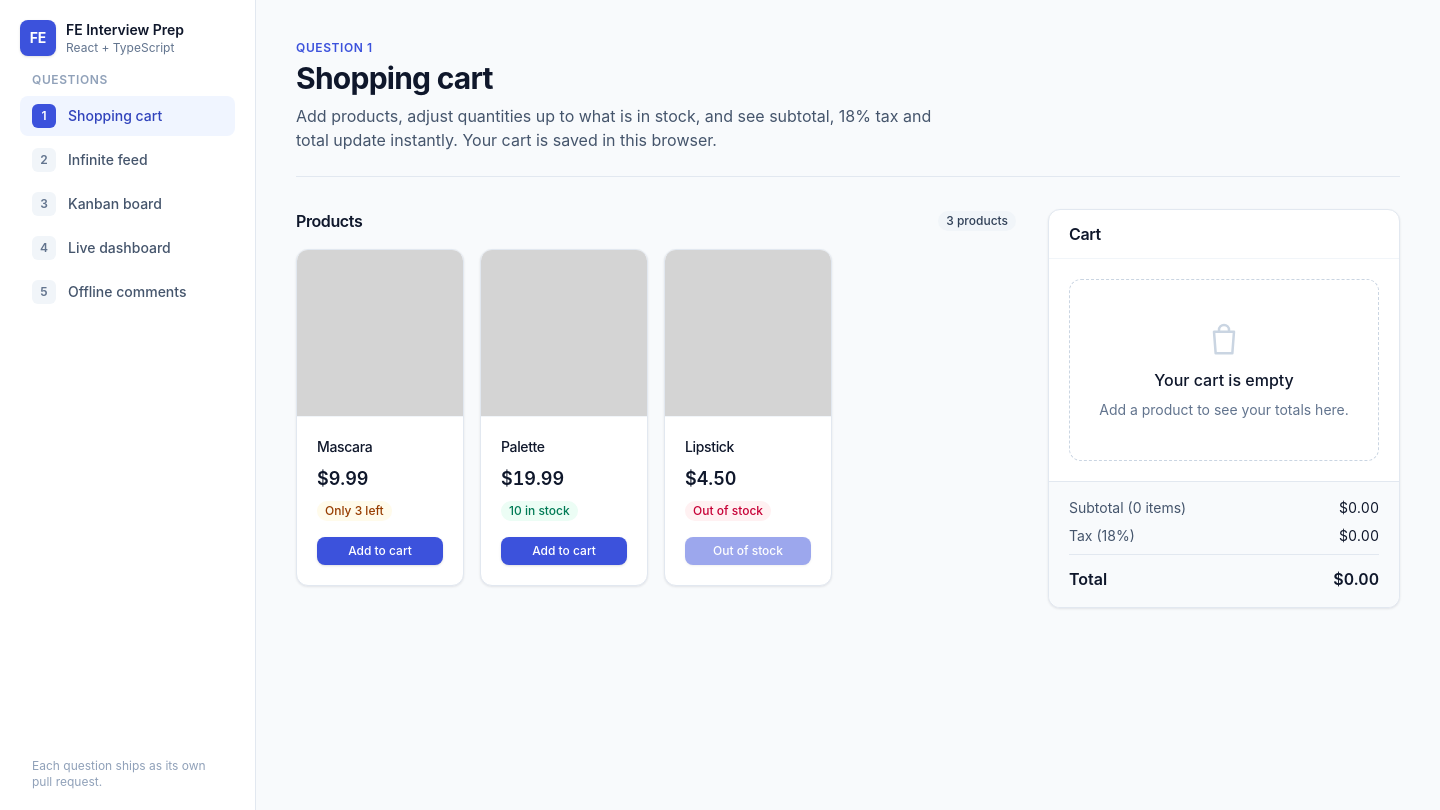
Test case: Shopping cart page › updates subtotal, tax and total immediately when quantities change
Expected: the heading "Products" is shown, [296,209,362,233]
Click the button with aria-label "Add to cart: Mascara": coordinates (380, 551) [317,537,443,565]
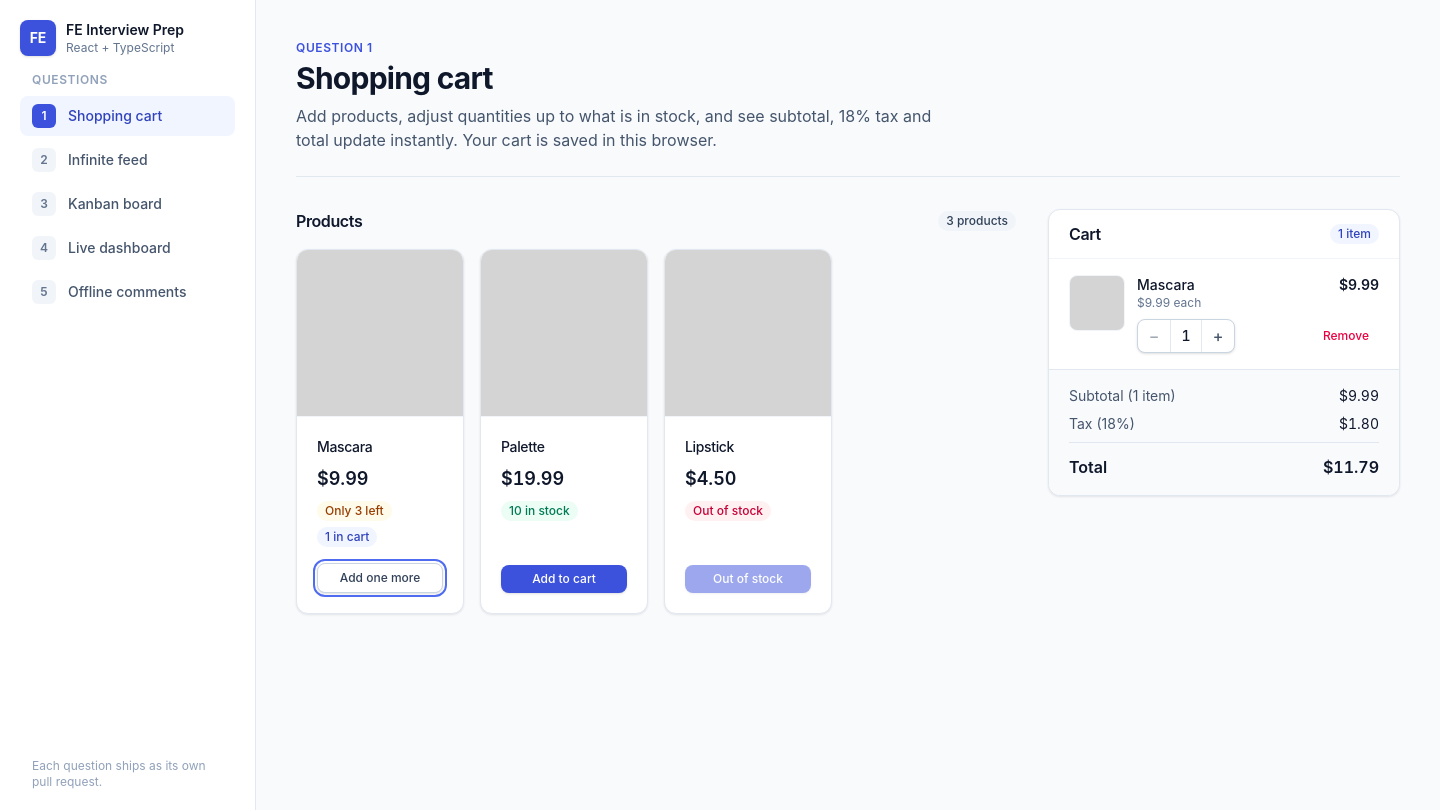
Click the button named "Increase quantity of Mascara": coordinates (1218, 336) [1202,320,1234,352]
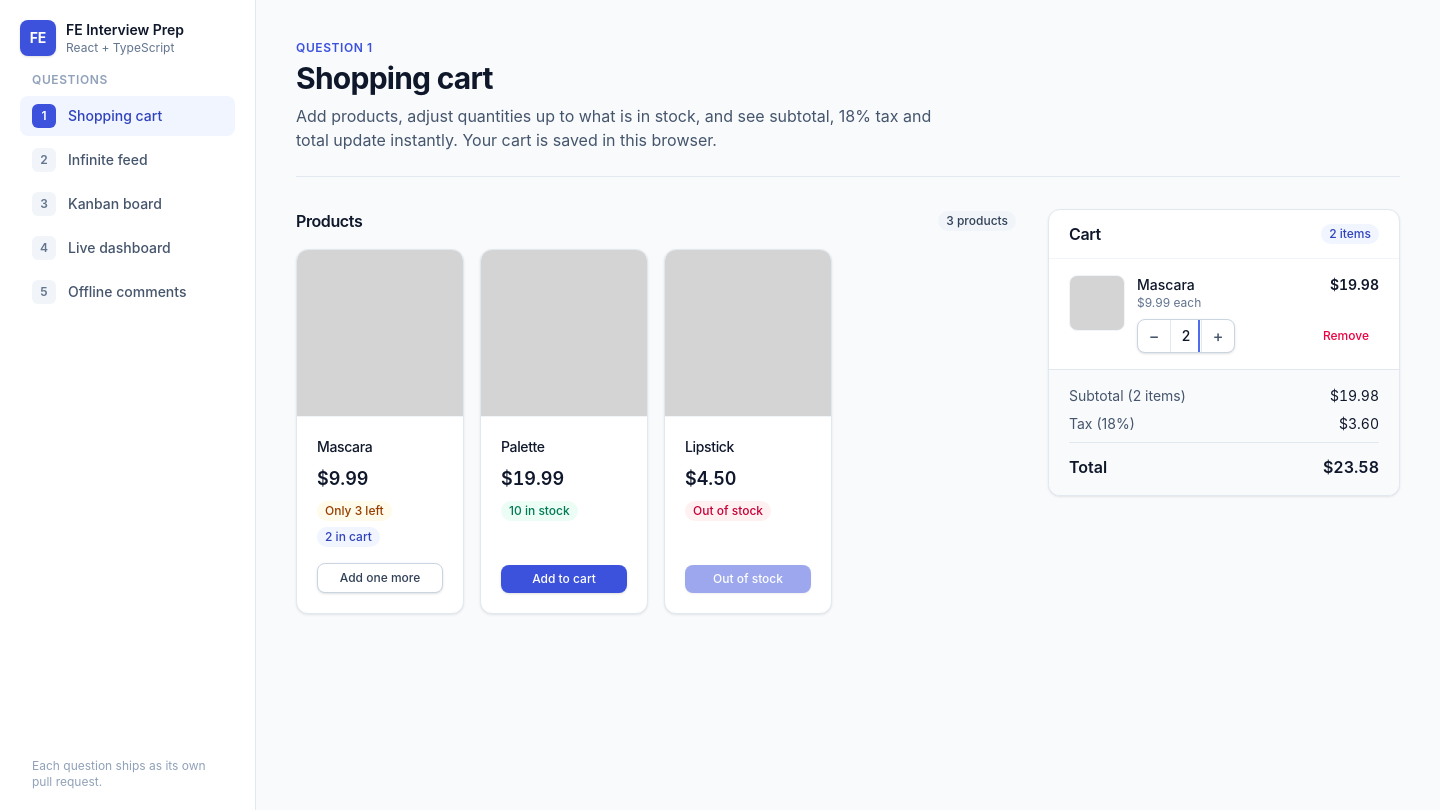
Expected: the text named "Quantity of Mascara" reads "2", [1182,327,1191,344]
Click the button with aria-label "Add to cart: Palette": coordinates (564, 579) [501,565,627,593]
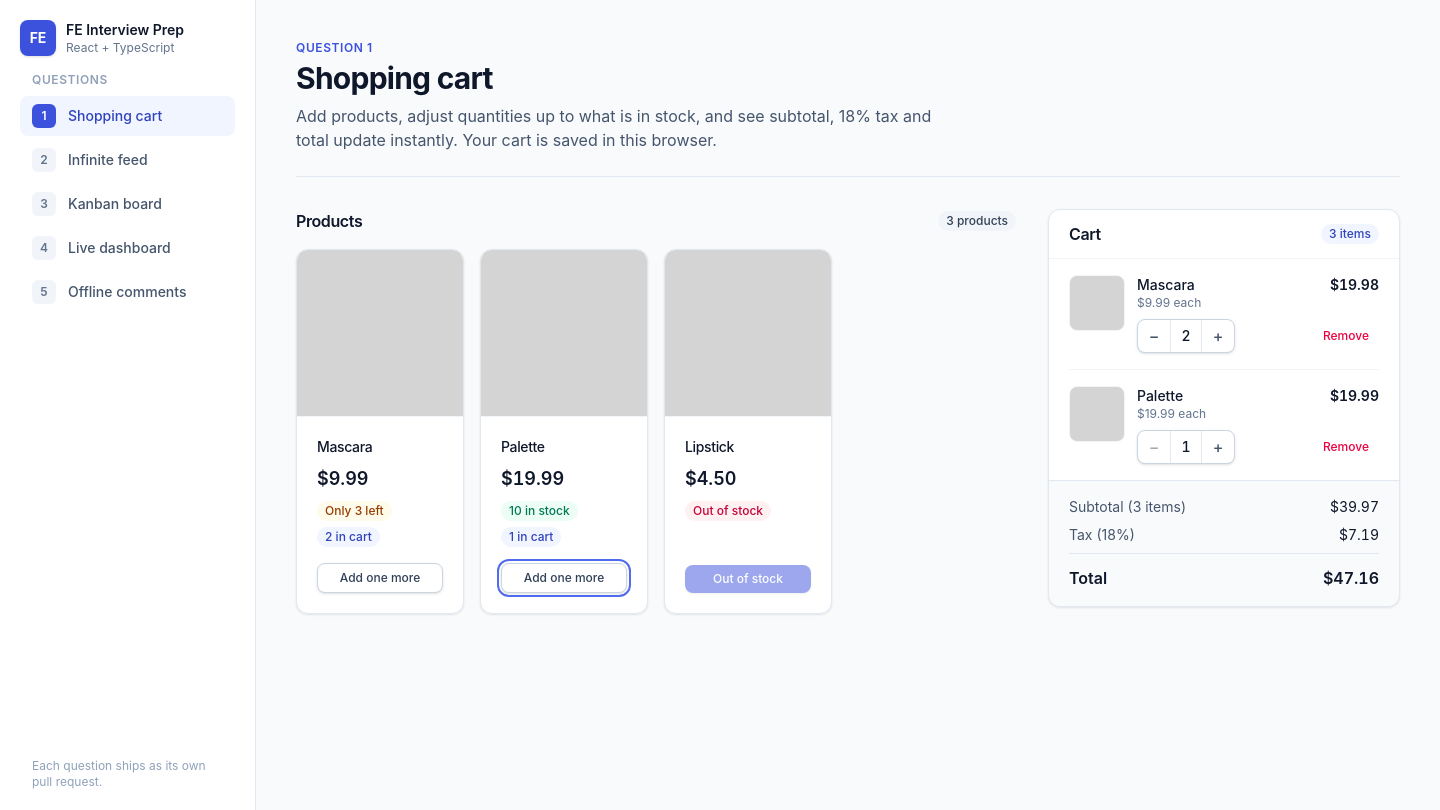
Click the button named "Decrease quantity of Mascara": coordinates (1154, 336) [1138,320,1170,352]
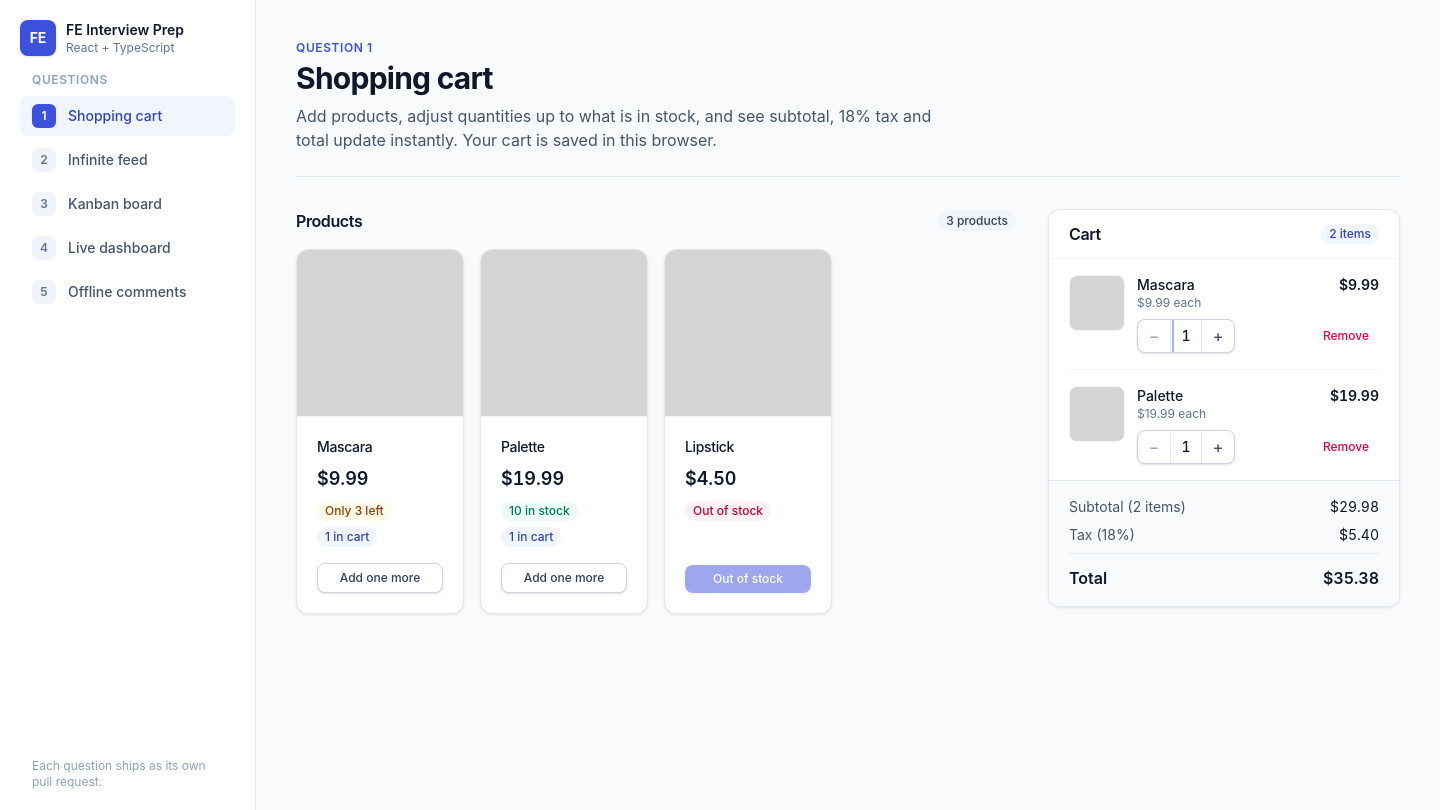
Click the button with aria-label "Remove Palette": coordinates (1346, 447) [1313,433,1379,461]
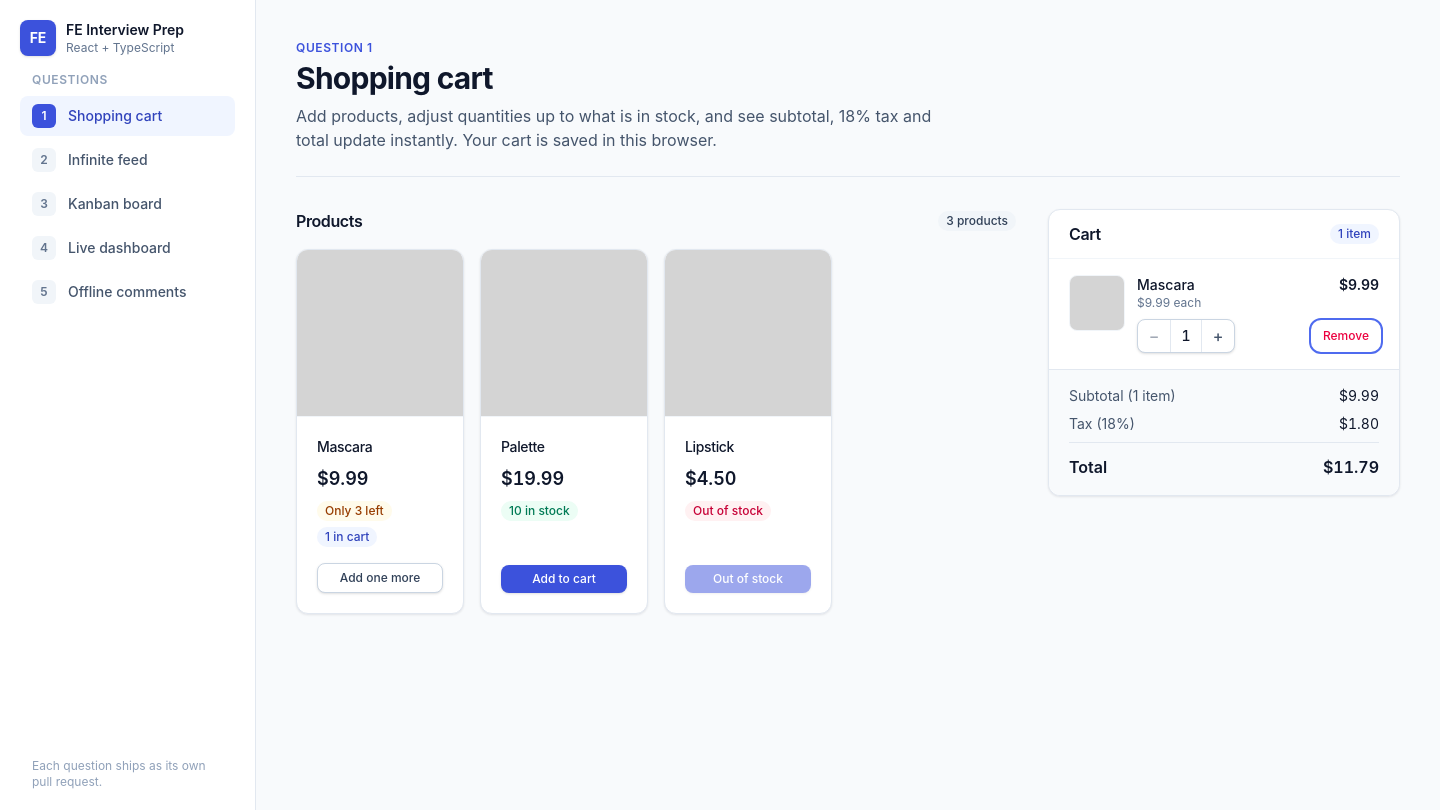
Click the button with aria-label "Remove Mascara": coordinates (1346, 336) [1313,322,1379,350]
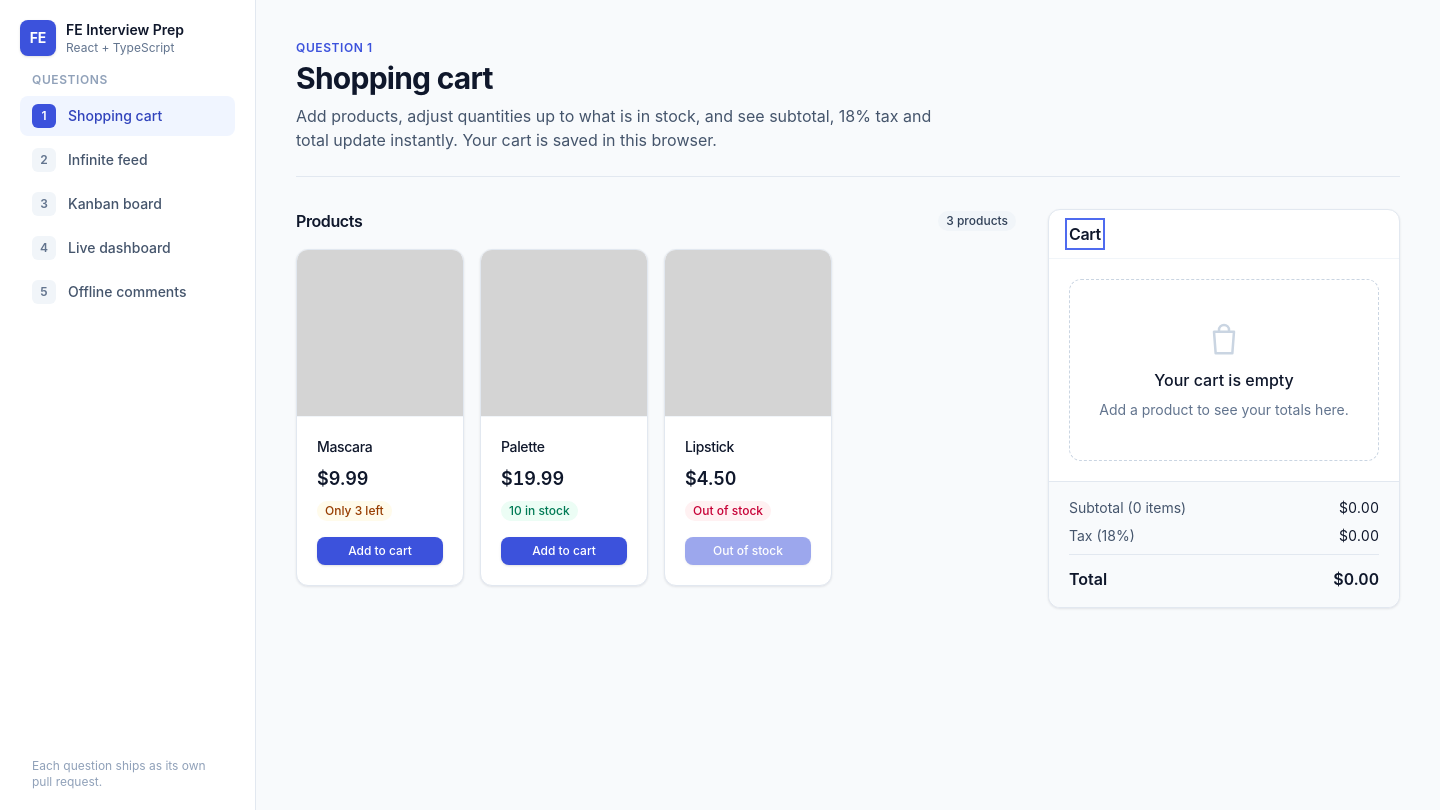
Expected: the text "Your cart is empty" is shown, [1154,368,1294,392]
